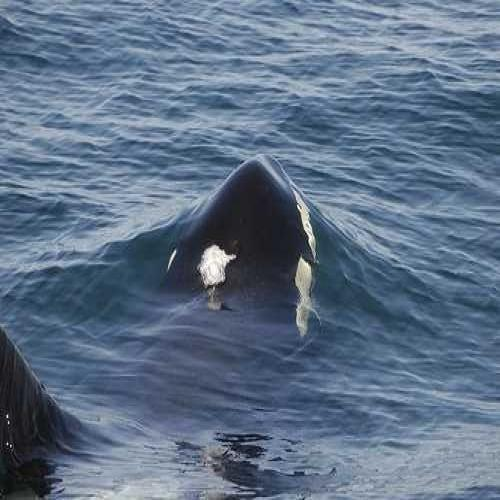killer_whale-endangered: (136, 105, 355, 359)
